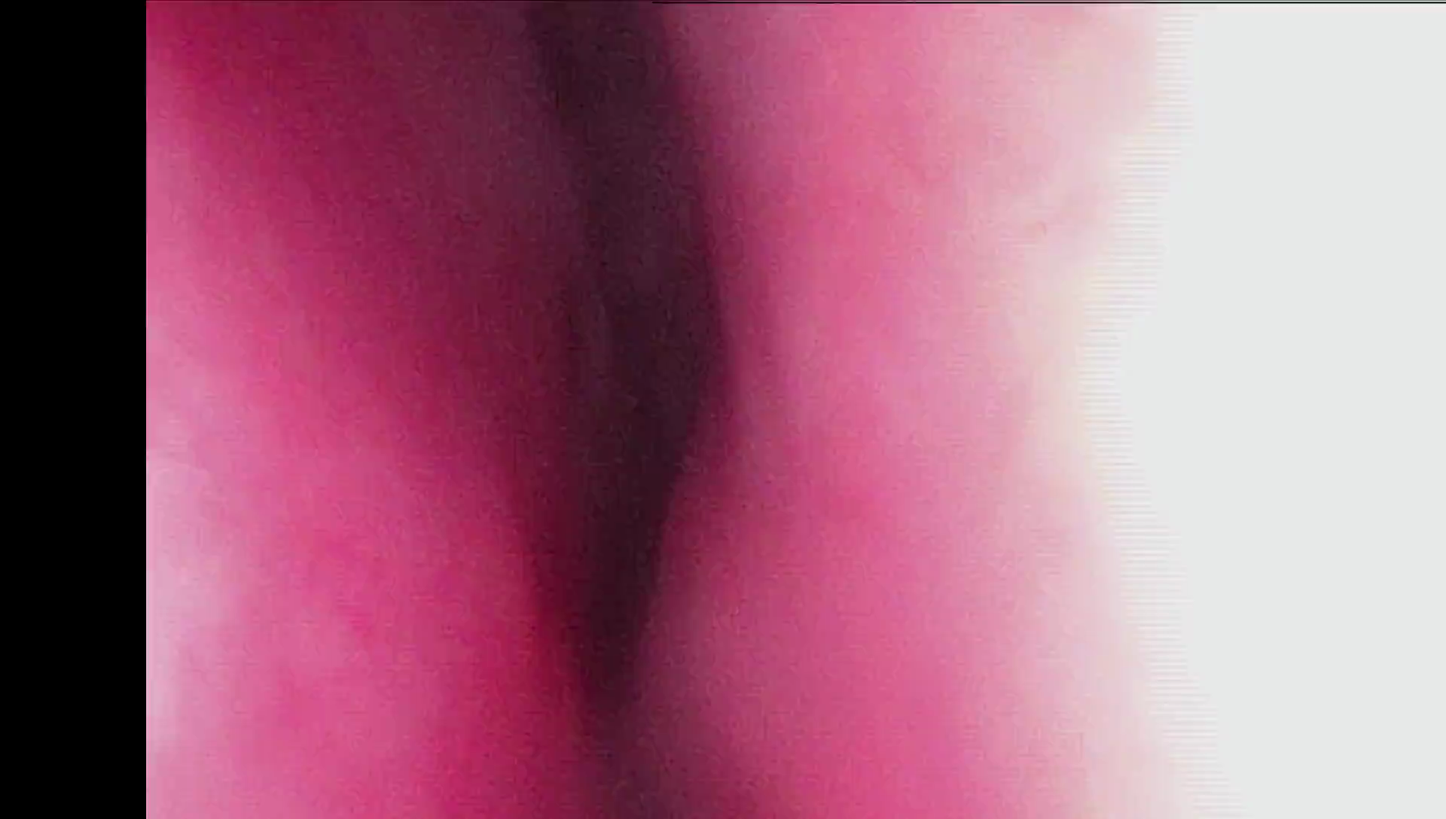close_wall: (843, 8, 1446, 819), (151, 249, 422, 819)
next: (502, 145, 751, 692)
